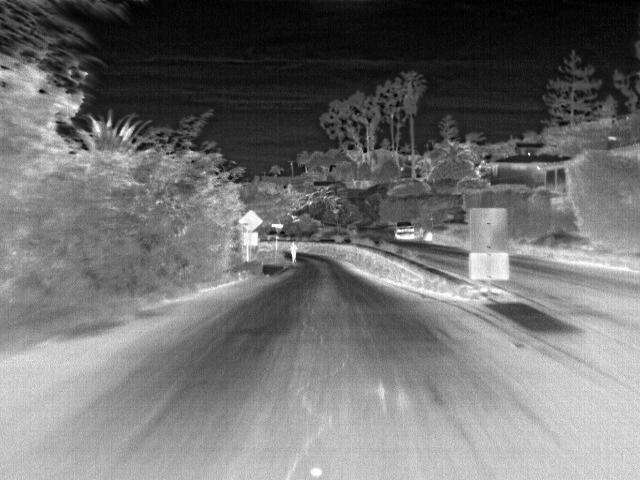car: (396, 221, 416, 240), (269, 223, 285, 236)
person: (290, 244, 300, 264)
